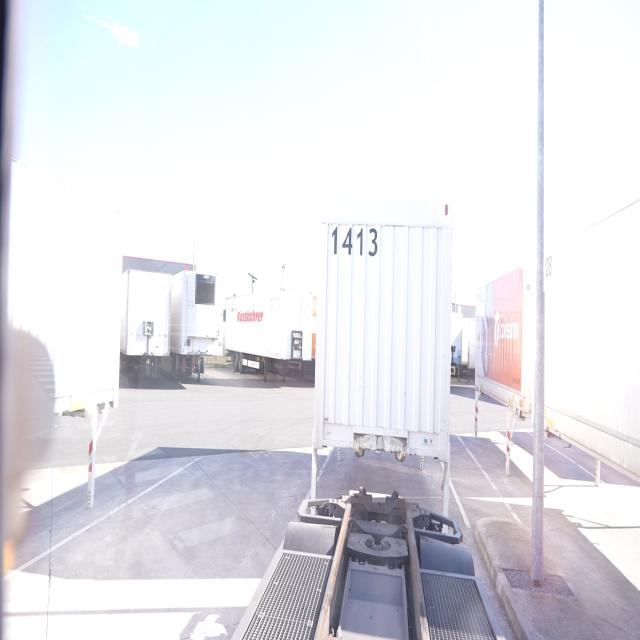Code: (330, 221, 378, 265)
